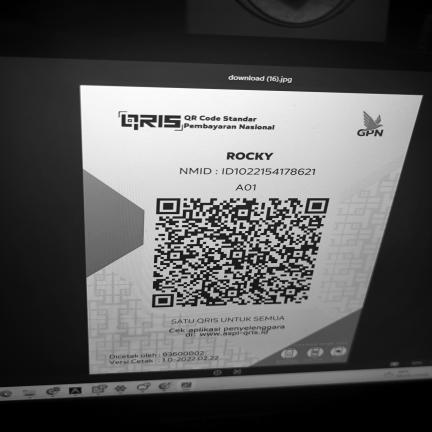Qris-Positioning: (80, 86, 422, 373)
